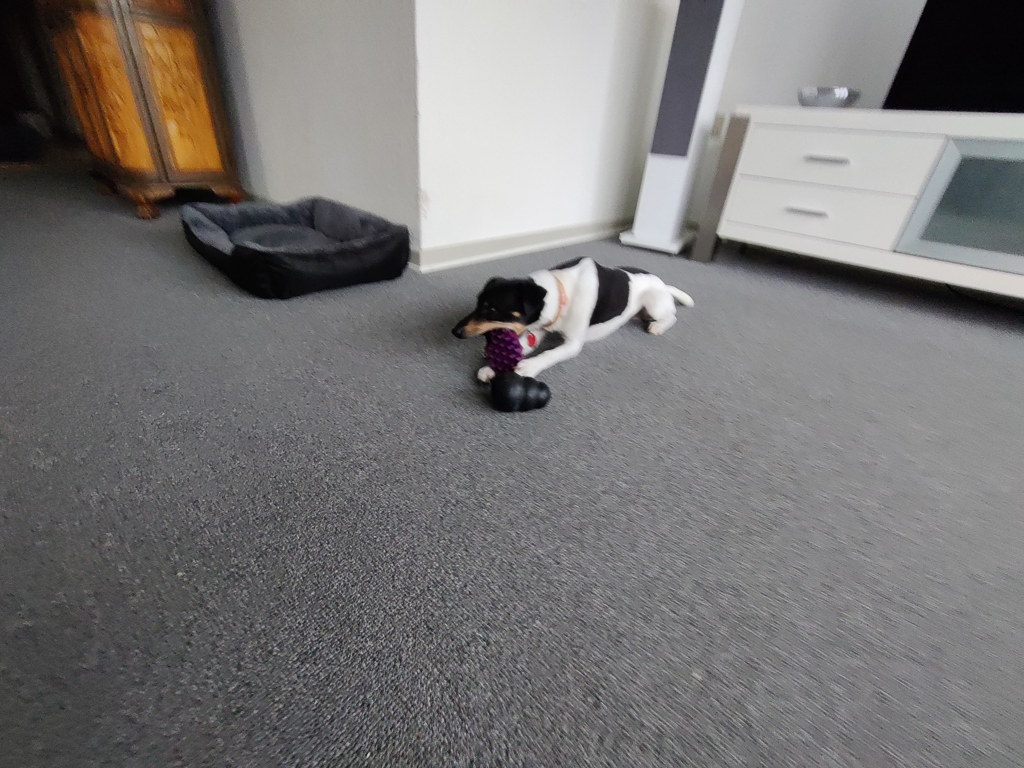Dog: (443, 251, 703, 389)
